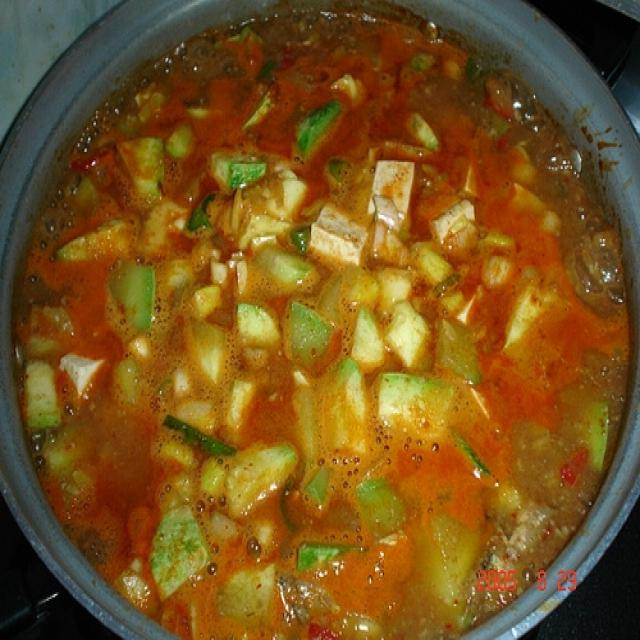汤锅炖物: (15, 17, 616, 623)
